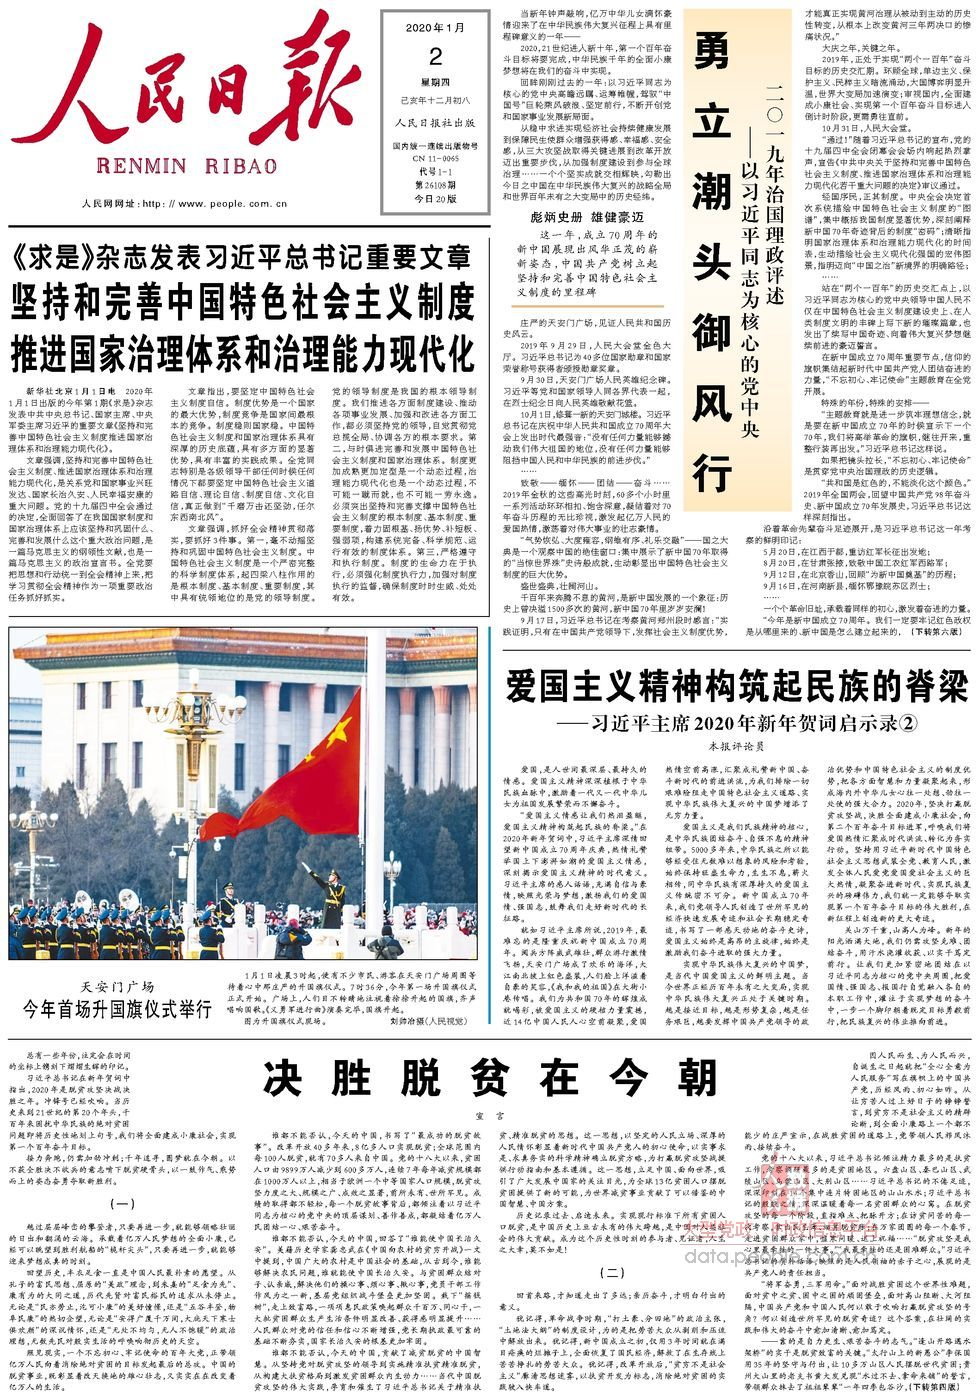pic: (3, 620, 483, 966)
